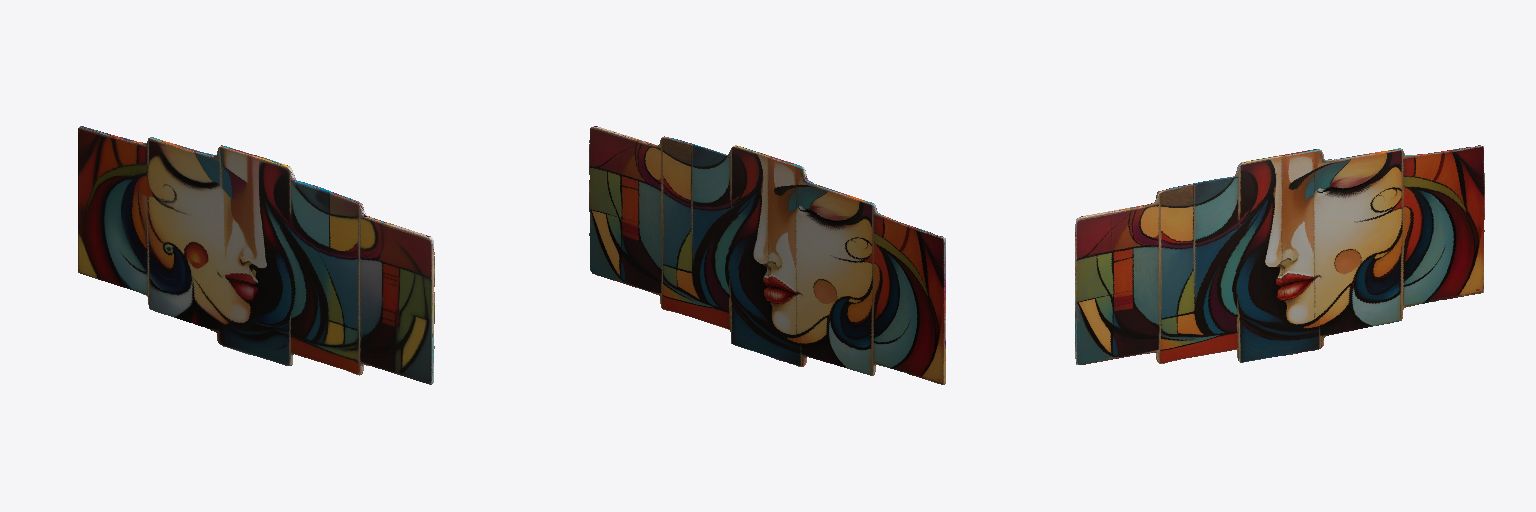
3 views of the same model, side by side, from view 1: azimuth 30°, elevation 25°; view 2: azimuth 210°, elevation 25°; view 3: azimuth 270°, elevation 25° (orthographic).
Parts seen in each view (by area): view 1: cuadronuevo5; view 2: cuadronuevo5; view 3: cuadronuevo5.
Boxes of the visible parts, <box> form: cuadronuevo5: <box>78,126,434,384</box>; cuadronuevo5: <box>589,126,945,384</box>; cuadronuevo5: <box>1075,145,1484,364</box>.
Bounding box in the file's own units: 7.76 × 9.72 × 17.93.
1 materials, 1 textured.